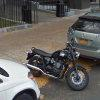Motorcycle: (22, 38, 94, 98)
